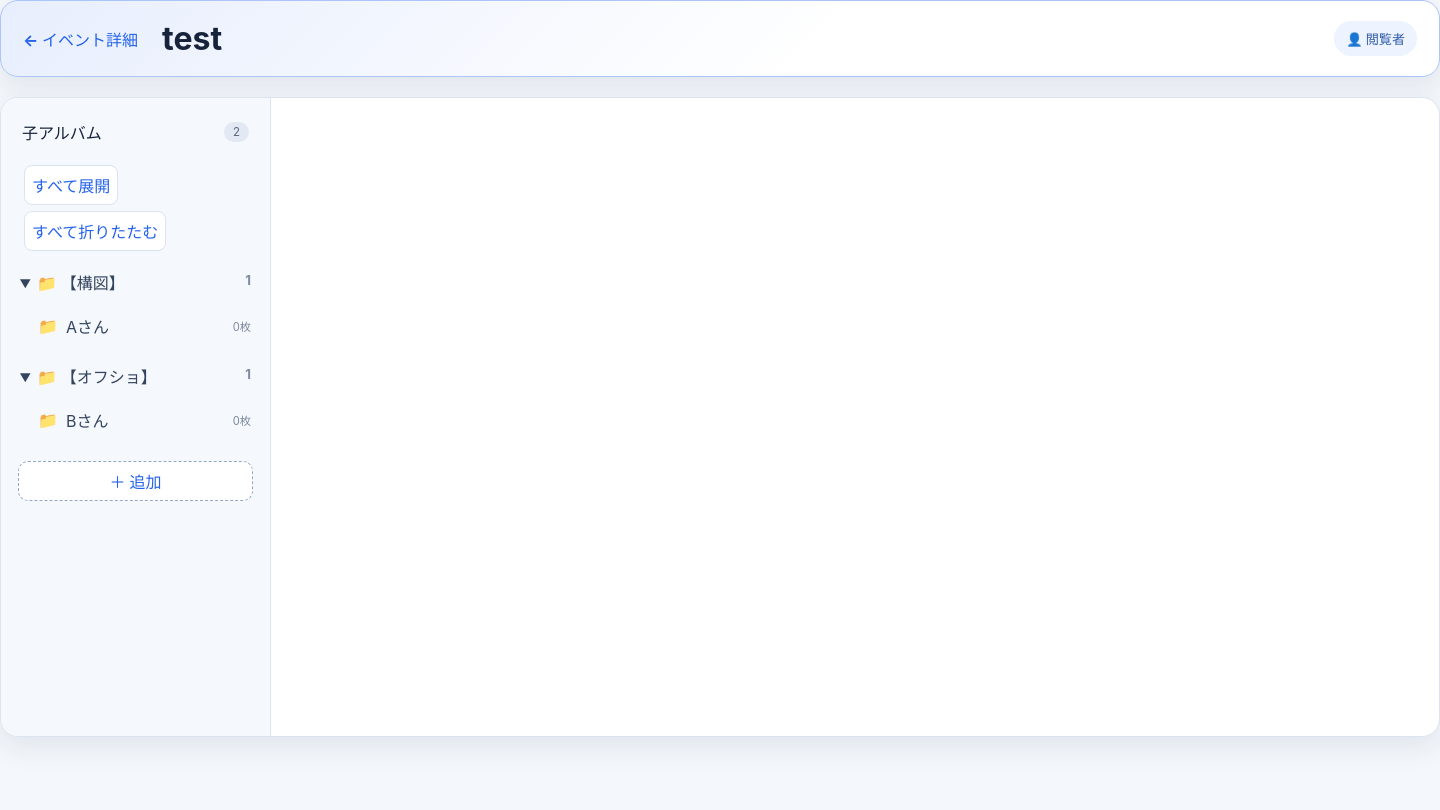
Test: album legacy creation helpers › requires a template and locks its type for participants
Click the button with class "sidebar-add" at {"x": 136, "y": 481}, box [18,461,253,501]
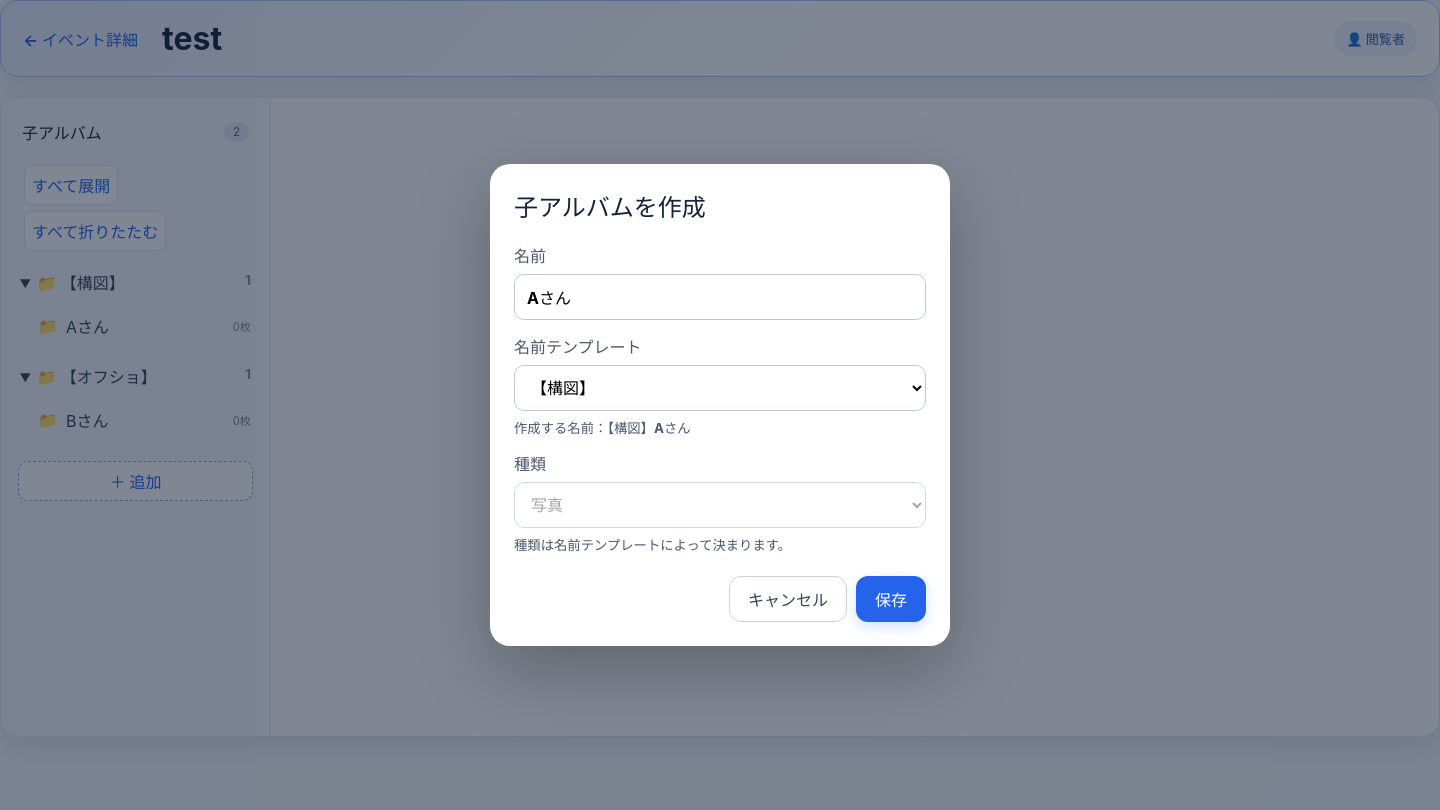
Select "【構図】" in the dropdown labelled "名前テンプレート 作成する名前：【構図】Aさん" at {"x": 720, "y": 388}, box [514,365,926,411]
Now the dropdown labelled "種類 種類は名前テンプレートによって決まります。" shows "写真", box [514,482,926,528]
Select "【オフショ】" in the dropdown labelled "名前テンプレート 作成する名前：【構図】Aさん" at {"x": 720, "y": 388}, box [514,365,926,411]
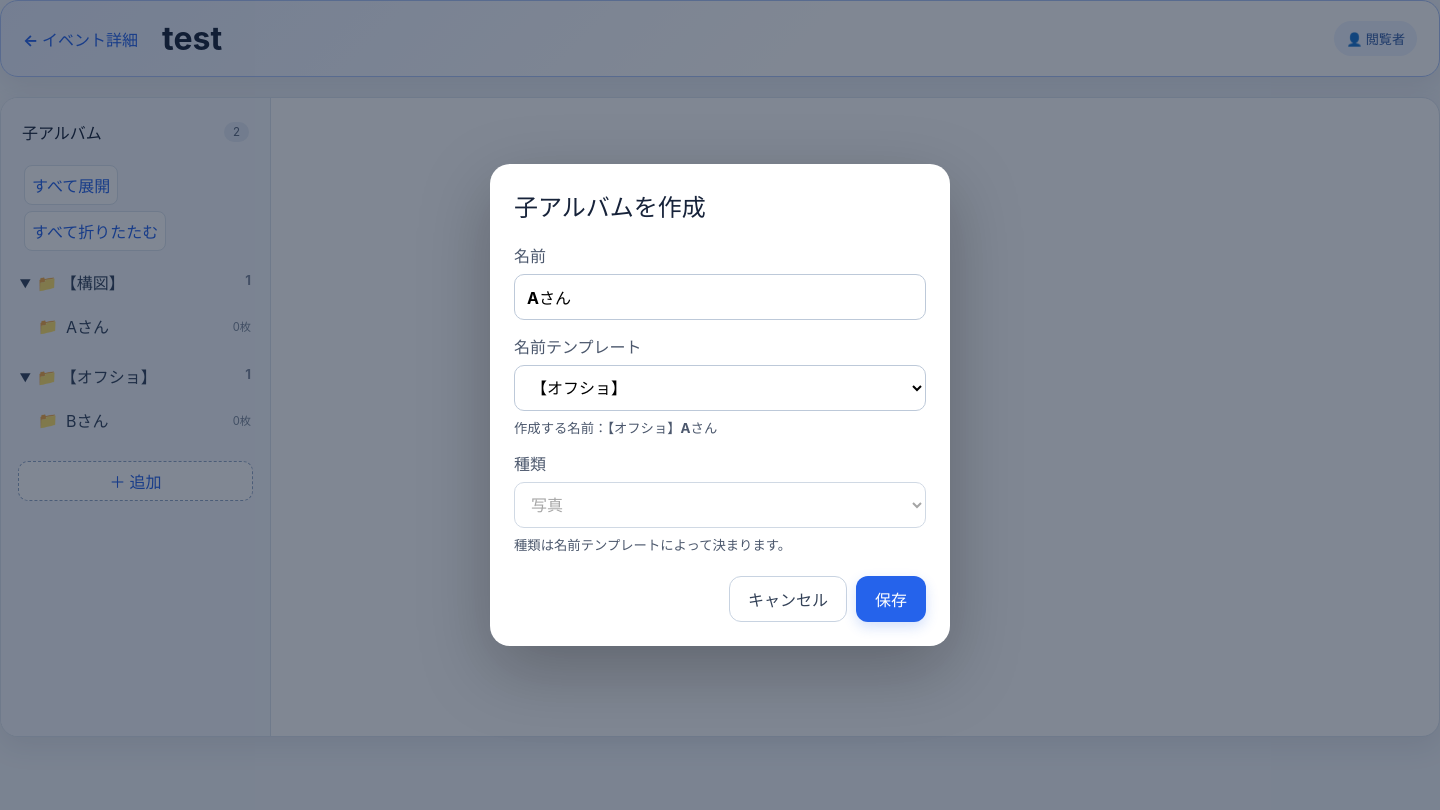
Now the dropdown labelled "種類 種類は名前テンプレートによって決まります。" shows "写真", box [514,482,926,528]
Select "【動画】" in the dropdown labelled "名前テンプレート 作成する名前：【オフショ】Aさん" at {"x": 720, "y": 388}, box [514,365,926,411]
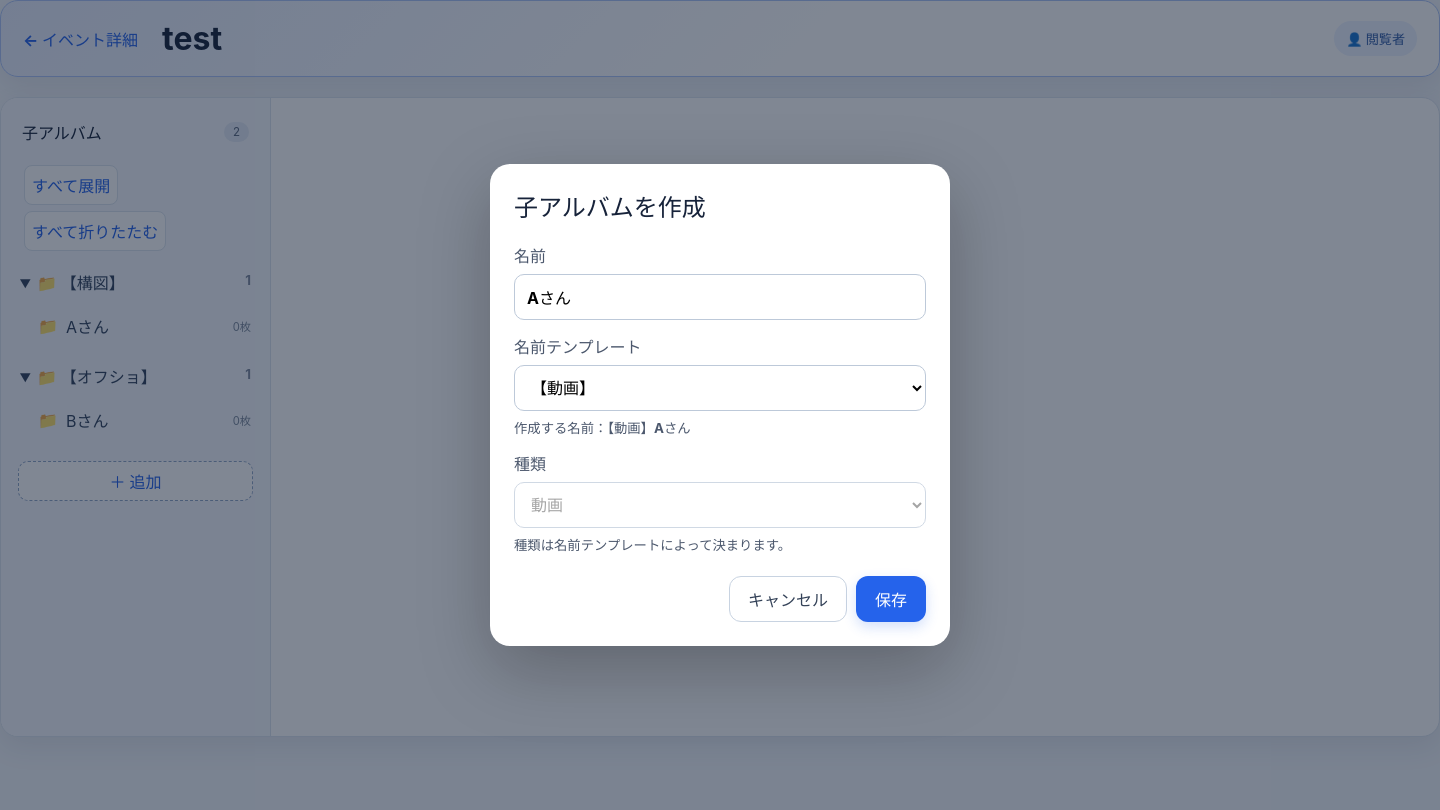
Now the dropdown labelled "種類 種類は名前テンプレートによって決まります。" shows "動画", box [514,482,926,528]
Select "【加工回し】" in the dropdown labelled "名前テンプレート 作成する名前：【動画】Aさん" at {"x": 720, "y": 388}, box [514,365,926,411]
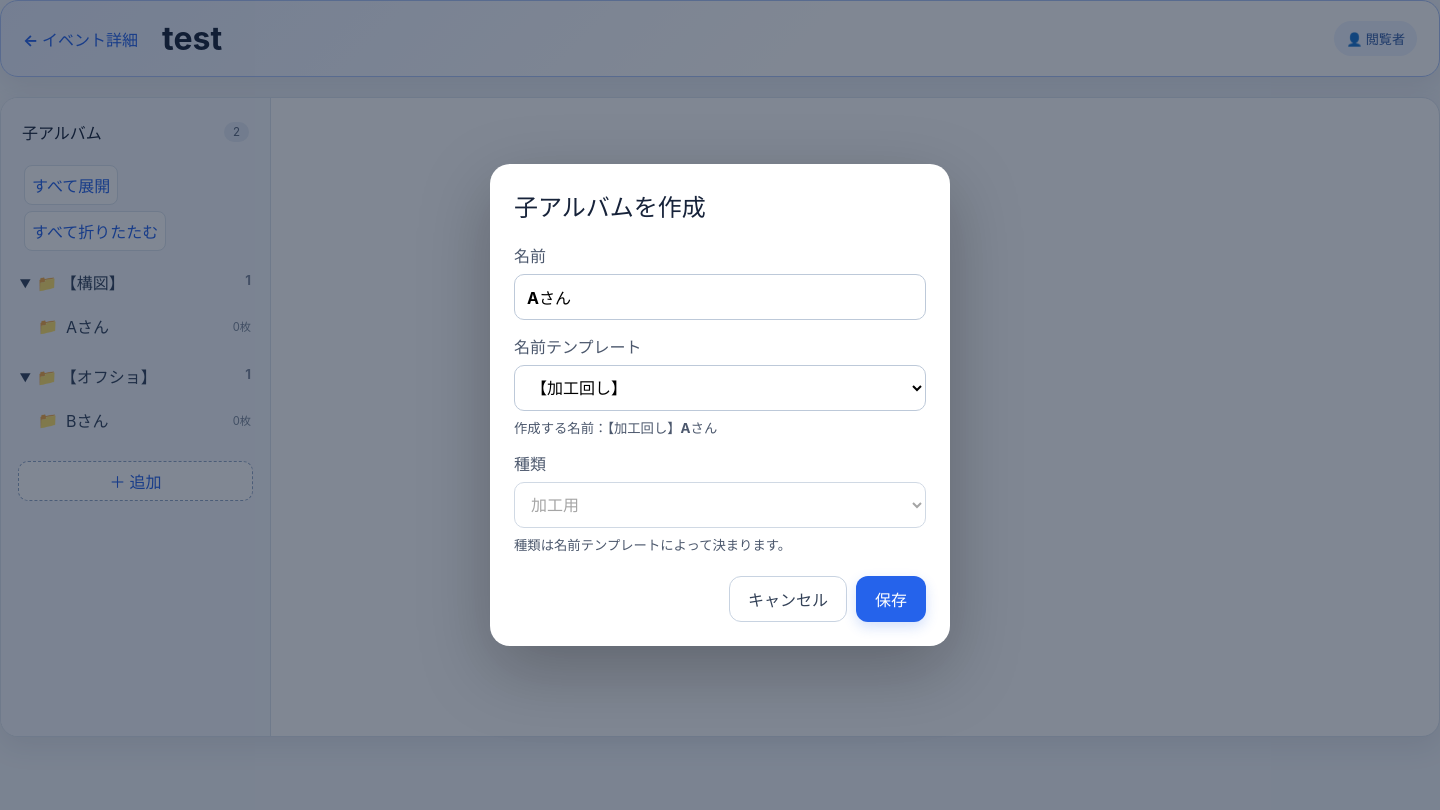
Now the dropdown labelled "種類 種類は名前テンプレートによって決まります。" shows "加工用", box [514,482,926,528]
